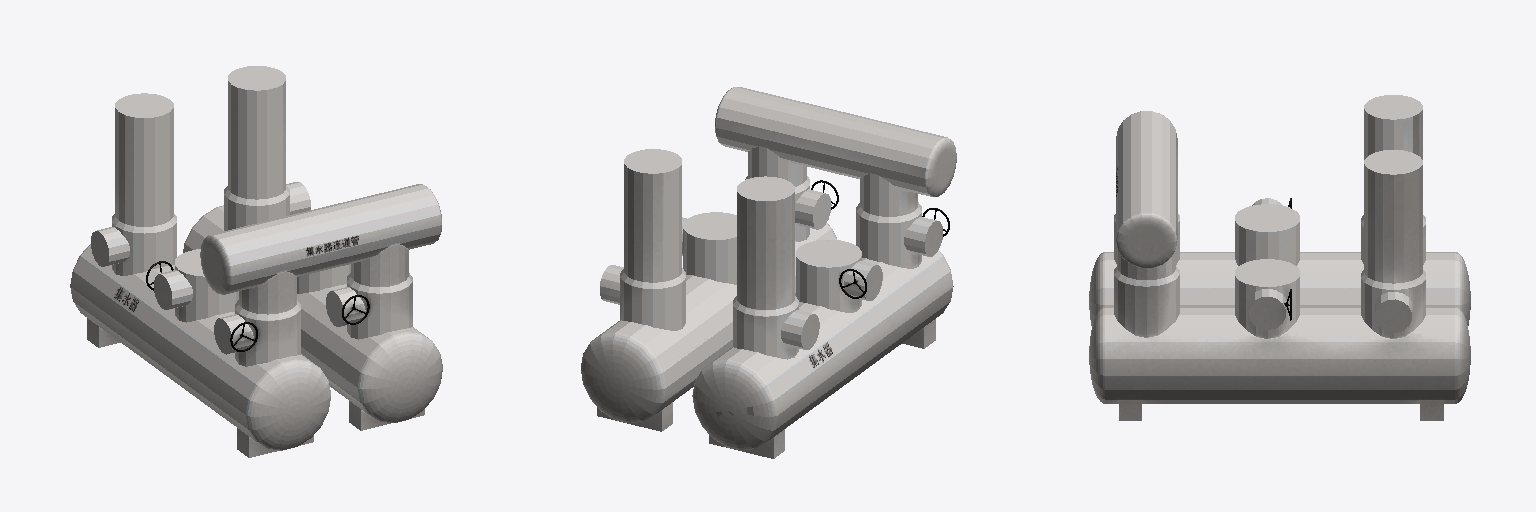
The picture shows the model from 3 angles: view 1: azimuth 30°, elevation 25°; view 2: azimuth 150°, elevation 25°; view 3: azimuth 270°, elevation 25°; orthographic projection.
Visible parts, largest first — view 1: ChamferCyl01; view 2: ChamferCyl01; view 3: ChamferCyl01.
Part boxes in pixels (left/top/right/bottom): ChamferCyl01: left=70, top=66, right=442, bottom=457; ChamferCyl01: left=581, top=87, right=956, bottom=458; ChamferCyl01: left=1089, top=95, right=1470, bottom=420.
Size of the model in its own units: 271 by 289 by 409.
1 materials, 1 textured.